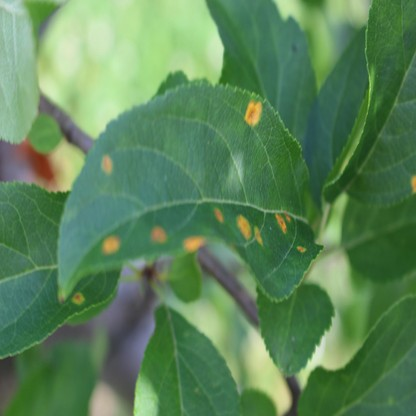rust: (243, 100, 262, 125), (237, 213, 251, 240), (183, 236, 206, 250), (150, 226, 165, 244), (102, 237, 119, 252), (275, 214, 287, 233), (213, 205, 224, 222), (71, 293, 86, 305), (101, 156, 113, 171), (254, 226, 263, 245), (411, 175, 416, 198), (297, 244, 308, 254), (284, 211, 290, 221)
